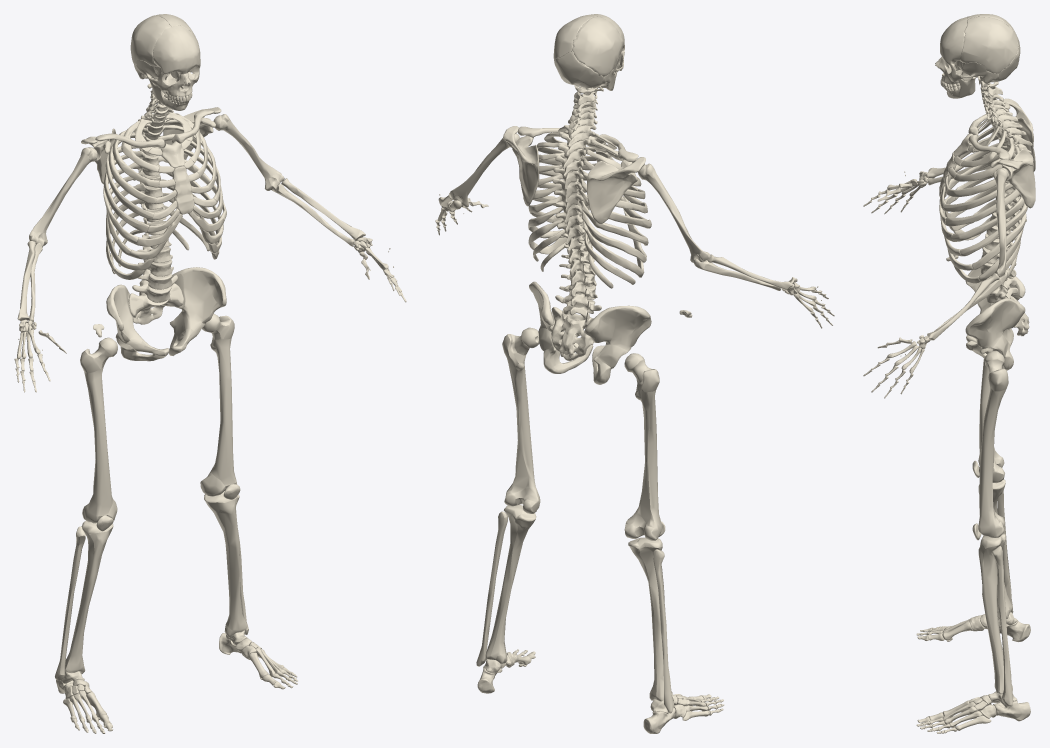
File: skeleton.glb
3 renders of one model, left to right at view 1: azimuth 30°, elevation 25°; view 2: azimuth 150°, elevation 25°; view 3: azimuth 270°, elevation 25°, orthographic. The views are drawn at different scales.
Parts seen in each view (by area): view 1: Femur.r, Femur.l, Hip bone.l, Tibia.l, Tibia.r, Hip bone.r, Frontal bone, Parietal bone right, Humerus.r, Sacrum, Humerus.l, Fibula.r (+3 smaller); view 2: Femur.r, Femur.l, Hip bone.r, Tibia.l, Scapula.r., Parietal bone right, Tibia.r, Hip bone.l, Sacrum, Scapula.l, Humerus.r, Fibula.r (+4 smaller); view 3: Femur.l, Parietal bone left, Hip bone.l, Tibia.l, Scapula.l, Fibula.l, Humerus.l, Femur.r, Frontal bone, Hip bone.r, Scapula.r., Radius.l (+19 smaller).
Boxes of the visible parts, left/top/right/bottom form: Femur.r: left=80, top=337, right=117, bottom=523; Femur.l: left=200, top=314, right=236, bottom=496; Hip bone.l: left=169, top=267, right=226, bottom=355; Tibia.l: left=204, top=491, right=247, bottom=637; Tibia.r: left=65, top=521, right=113, bottom=674; Hip bone.r: left=106, top=284, right=169, bottom=361; Frontal bone: left=153, top=25, right=200, bottom=74; Parietal bone right: left=130, top=15, right=171, bottom=66; Humerus.r: left=29, top=147, right=97, bottom=247; Sacrum: left=128, top=283, right=183, bottom=324; Humerus.l: left=213, top=114, right=284, bottom=190; Fibula.r: left=55, top=526, right=85, bottom=680; Femur.r: left=624, top=353, right=662, bottom=540; Femur.l: left=502, top=327, right=540, bottom=513; Hip bone.r: left=584, top=305, right=651, bottom=384; Tibia.l: left=485, top=504, right=536, bottom=663; Scapula.r.: left=587, top=157, right=645, bottom=223; Parietal bone right: left=572, top=16, right=623, bottom=76; Tibia.r: left=628, top=537, right=672, bottom=701; Hip bone.l: left=529, top=281, right=593, bottom=373; Sacrum: left=551, top=307, right=593, bottom=360; Scapula.l: left=503, top=126, right=539, bottom=206; Humerus.r: left=638, top=163, right=710, bottom=262; Fibula.r: left=653, top=549, right=673, bottom=713; Femur.l: left=978, top=351, right=1008, bottom=537; Parietal bone left: left=960, top=16, right=1018, bottom=73; Hip bone.l: left=965, top=298, right=1025, bottom=370; Tibia.l: left=978, top=533, right=1012, bottom=693; Scapula.l: left=990, top=148, right=1035, bottom=208; Fibula.l: left=991, top=546, right=1013, bottom=706; Humerus.l: left=993, top=168, right=1009, bottom=277; Femur.r: left=978, top=352, right=1004, bottom=483; Frontal bone: left=940, top=17, right=967, bottom=64; Hip bone.r: left=965, top=267, right=1025, bottom=345; Scapula.r.: left=999, top=98, right=1035, bottom=171; Radius.l: left=927, top=273, right=999, bottom=340.
Size of the model in its own units: 6.51 by 10.92 by 2.57.
